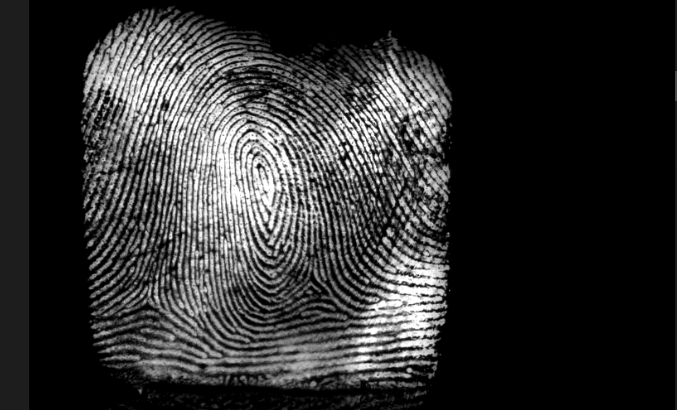nucelo: (249, 156, 274, 198)
verticilo: (132, 284, 160, 312), (297, 266, 323, 296)
